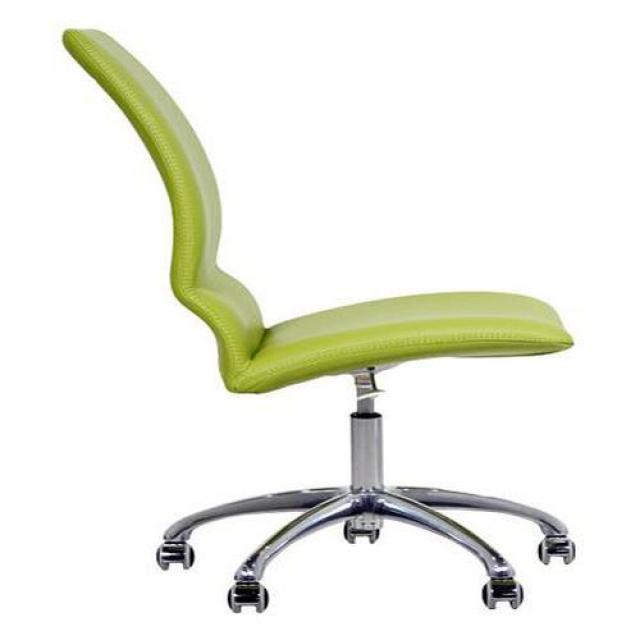swivelchair: (60, 29, 573, 614)
